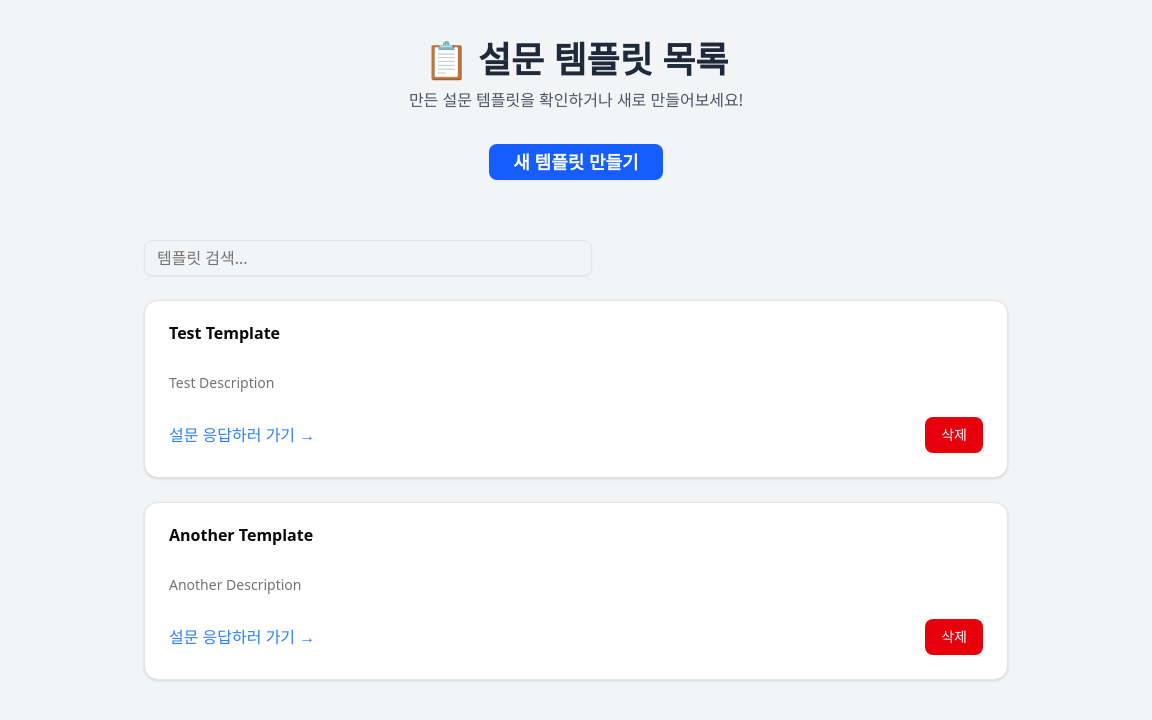
Test case: Home Component › filters templates based on search input
Expected: the text "Test Template" is shown, [169, 322, 280, 344]
In the field with placeholder "템플릿 검색...": (368, 258) [144, 240, 592, 276], type "Test"
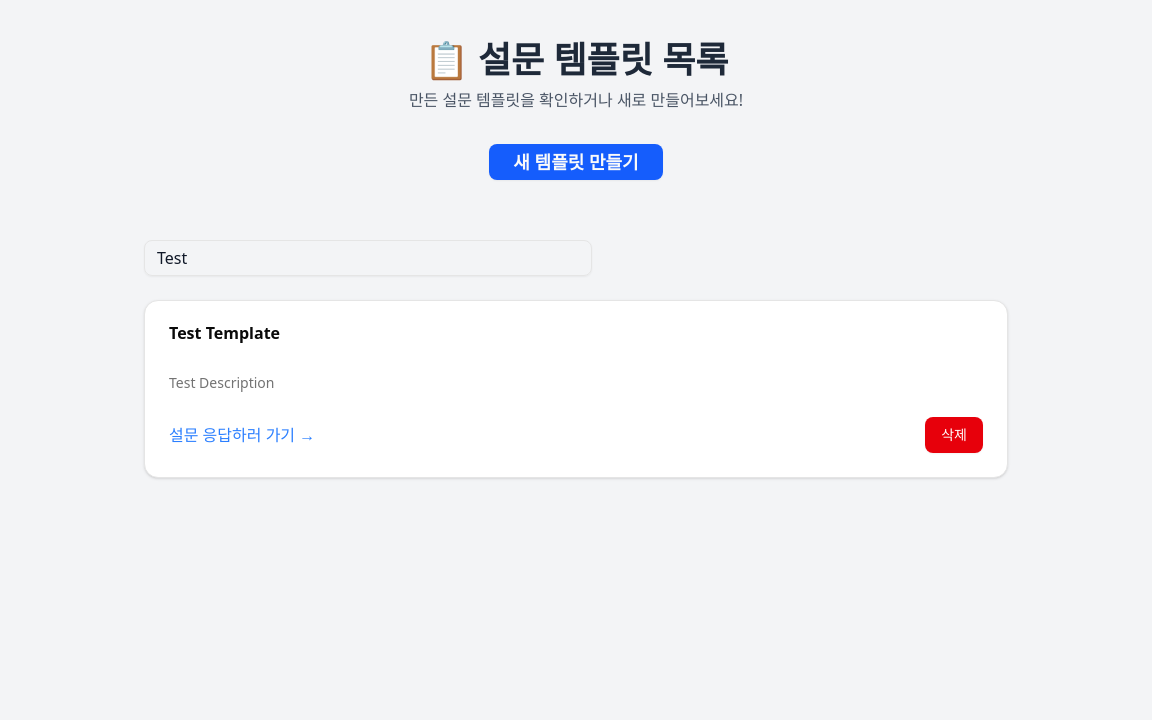
Expected: the text "Test Template" is shown, [169, 322, 280, 344]
Expected: the text "Another Template" is gone
Replace the text in the field with placeholder "템플릿 검색..." with "Nonexistent": (368, 258) [144, 240, 592, 276]
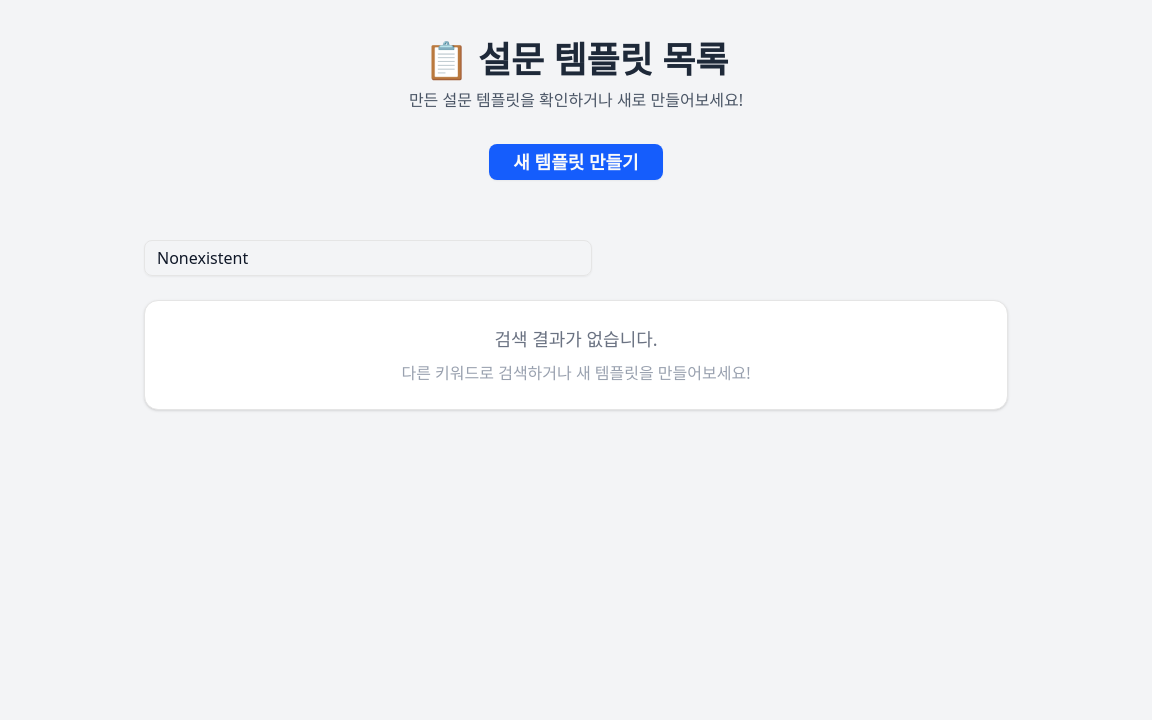
Expected: the text "검색 결과가 없습니다." is shown, [494, 327, 658, 351]
